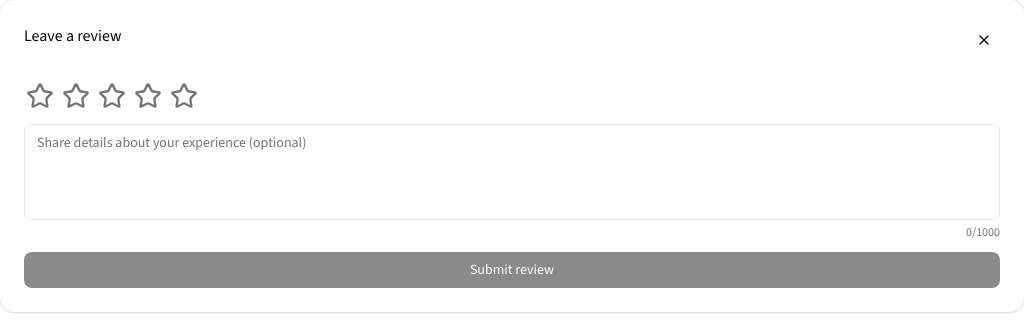
ReviewCard › collapses to the confirmation state immediately on submit (optimistic UI)
This screenshot has width=1024, height=330.
Click the radio button named "5 stars": (184, 96) [168,80,200,112]
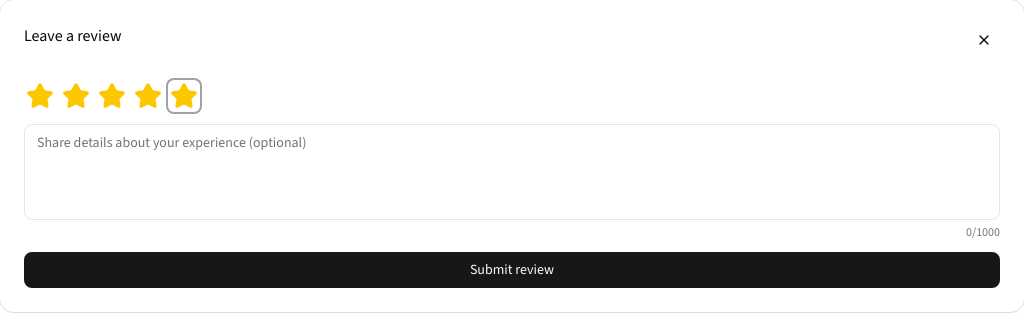
Click the button "Submit review": (512, 270) [24,252,1000,288]
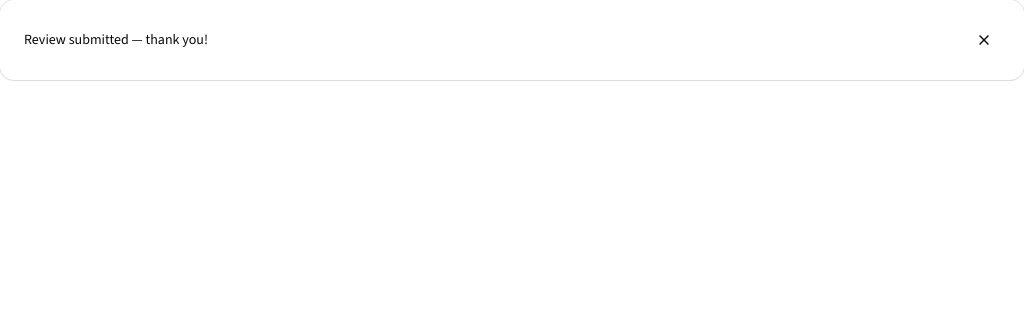
Result: the text "Review submitted — thank you!" is shown at [24,30,208,50]
Result: the text "Leave a review" is gone
